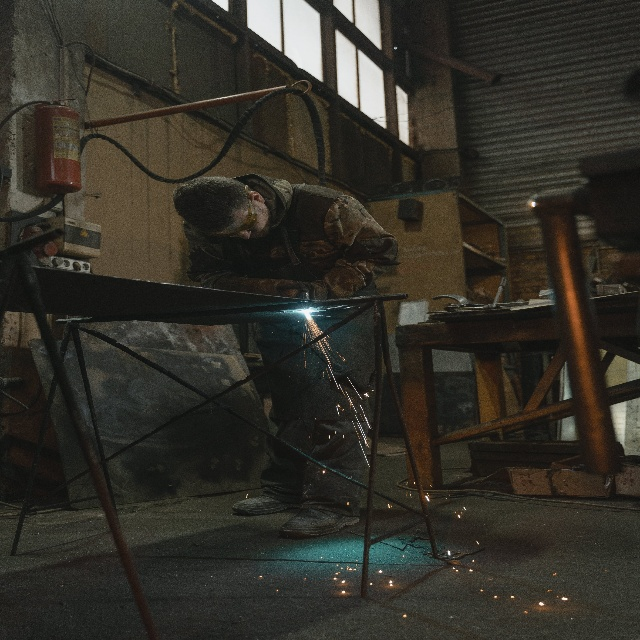Gafas: (214, 184, 257, 239)
Guantes: (213, 270, 311, 302), (297, 266, 365, 301)
